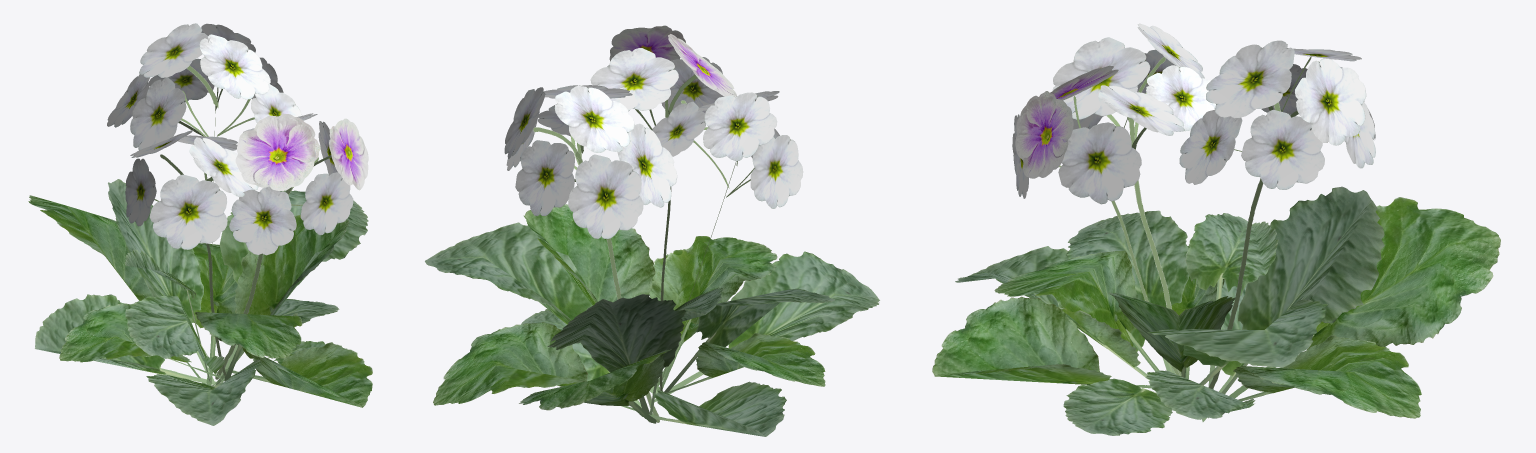
File: PrimroseObconica3A.fbx
3 views of the same model, side by side, from view 1: azimuth 30°, elevation 25°; view 2: azimuth 150°, elevation 25°; view 3: azimuth 270°, elevation 25° (orthographic). The views are drawn at different scales.
Parts seen in each view (by area): view 1: PrimroseObconica3A_LOD1; view 2: PrimroseObconica3A_LOD1; view 3: PrimroseObconica3A_LOD1.
Part boxes in pixels (x1,y1,x2,y2): PrimroseObconica3A_LOD1: (28,23,372,425); PrimroseObconica3A_LOD1: (425,25,879,436); PrimroseObconica3A_LOD1: (932,23,1500,435).
Bounding box in the file's own units: 51.34 × 46.66 × 61.97.
